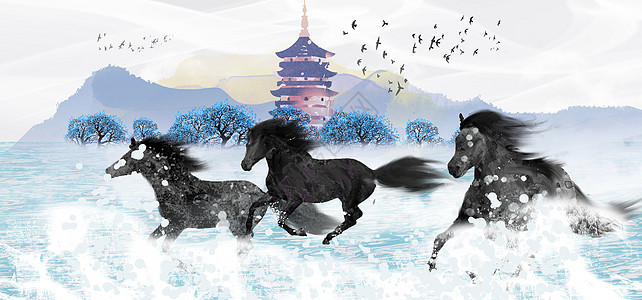background: (428, 110, 636, 270)
